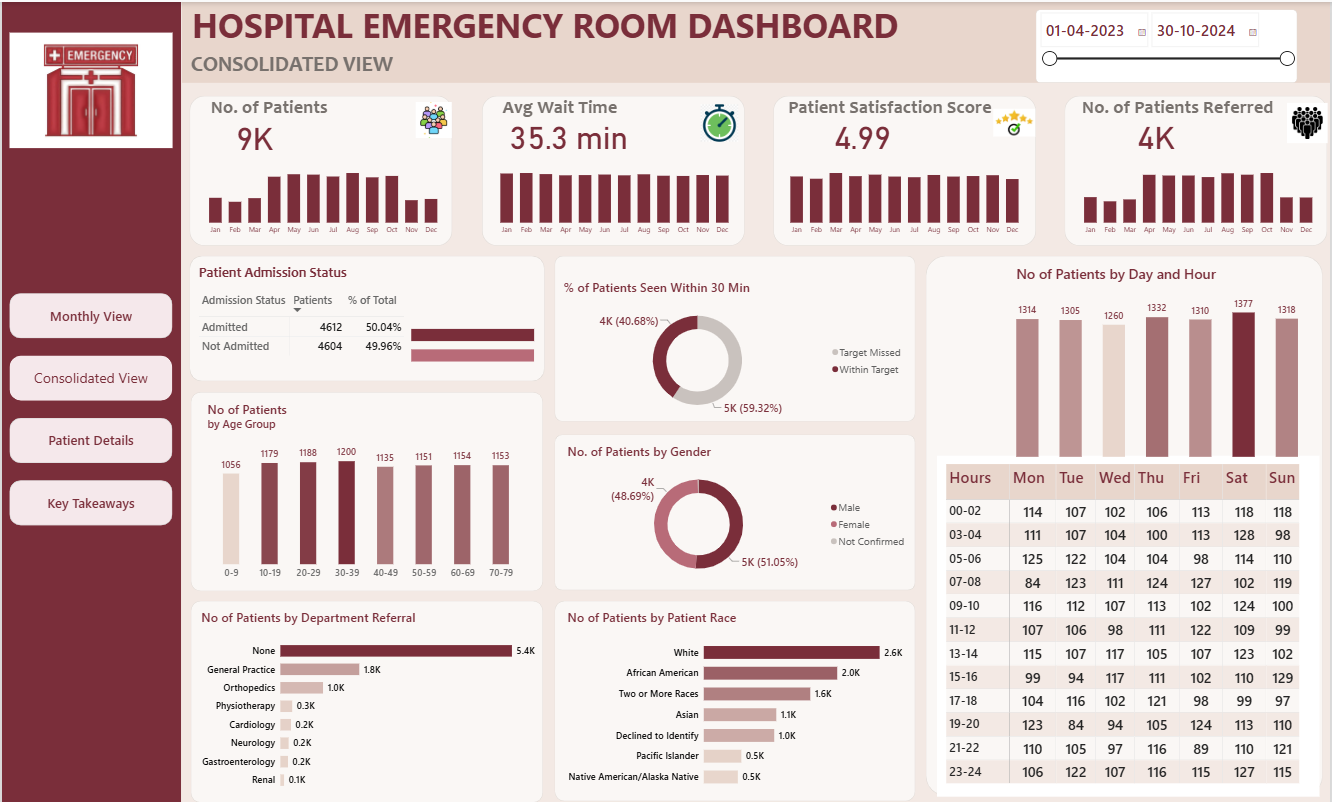

The page's visual inventory and layout, read from the dashboard file:
{"tool":"powerbi","page":{"name":"Consolidated View","canvas":[2300,1400],"ordinal":1},"visuals":[{"type":"shape","box":[0,0,310,1400.5],"z":0},{"type":"shape","box":[310.7,0,1989.8,140],"z":1000},{"type":"textbox","box":[283.6,0,1851.7,108.5],"z":2000},{"type":"textbox","box":[327.9,0,1260,106],"z":3000},{"type":"shape","box":[325.6,163.2,455,260],"z":4000},{"type":"textbox","box":[327.5,85,422.5,55],"z":5000},{"type":"cardVisual","fields":{"Data":["Hospital ER_Data.No of Patients"]},"box":[360.6,198.2,152.5,75],"z":6000},{"type":"slicer","fields":{"Values":["Date Table.Date"]},"box":[1790,12.5,452.5,127.5],"z":7000},{"type":"textbox","box":[360.6,163.2,257.5,67.5],"z":8000},{"type":"columnChart","fields":{"Category":["Date Table.Month Name"],"Y":["Hospital ER_Data.No of Patients"]},"box":[330,272.5,455,150],"z":9000},{"type":"shape","box":[831.7,162.8,455,260],"z":10000},{"type":"shape","box":[1335.8,162.8,455,260],"z":11000},{"type":"shape","box":[1840,162.8,455,260],"z":12000},{"type":"textbox","box":[852.5,162.5,257.5,62.5],"z":13000},{"type":"cardVisual","fields":{"Data":["Hospital ER_Data.Avg Wait Time"]},"box":[852.5,197.5,257.5,75],"z":14000},{"type":"columnChart","fields":{"Category":["Date Table.Month Name"],"Y":["Avg(Hospital ER_Data.Patient Waittime)"]},"box":[832.5,272.5,455,150],"z":15000},{"type":"textbox","box":[310,422.5,522.5,82.5],"z":16000},{"type":"textbox","box":[1362.5,162.5,397.5,62.5],"z":17000},{"type":"cardVisual","fields":{"Data":["Hospital ER_Data.Satisfaction Score"]},"box":[1362.5,197.5,257.5,75],"z":18000},{"type":"columnChart","fields":{"Category":["Date Table.Month Name"],"Y":["Hospital ER_Data.Satisfaction Score"]},"box":[1335,272.5,455,150],"z":19000},{"type":"textbox","box":[1870,162.5,375,62.5],"z":20000},{"type":"cardVisual","fields":{"Data":["Hospital ER_Data.No of Patients Referred"]},"box":[1870,197.5,257.5,75],"z":21000},{"type":"shape","box":[325,440,615,217.5],"z":22000},{"type":"columnChart","fields":{"Category":["Date Table.Month Name"],"Y":["Hospital ER_Data.No of Patients Referred"]},"box":[1845,272.5,455,150],"z":23000},{"type":"pivotTable","title":"Patient Admission Status","fields":{"Rows":["Hospital ER_Data.Admission Status"],"Values":["Hospital ER_Data.No of Patients1","Hospital ER_Data.No of Patients"]},"box":[325,440,612.5,217.5],"z":24000},{"type":"barChart","fields":{"Category":["Hospital ER_Data.Admission Status"],"Y":["Hospital ER_Data.No of Patients"]},"box":[692.5,525,245,132.5],"z":25000},{"type":"shape","box":[327.5,675,610,345],"z":26000},{"type":"clusteredColumnChart","fields":{"Category":["Hospital ER_Data.Age Group"],"Y":["Hospital ER_Data.No of Patients"]},"box":[340,675,582.5,345],"z":27000},{"type":"shape","box":[327.5,1037.5,610,350],"z":28000},{"type":"clusteredBarChart","title":"No of Patients by Department Referral","fields":{"Category":["Hospital ER_Data.Department Referral"],"Y":["Hospital ER_Data.No of Patients"]},"box":[330,1037.5,610,350],"z":29000},{"type":"shape","box":[957.5,440,625,287.5],"z":30000},{"type":"donutChart","title":"% of Patients Seen Within 30 Min","fields":{"Category":["Hospital ER_Data.Waittime Status"],"Y":["Hospital ER_Data.No of Patients"]},"box":[957.5,465,625,270],"z":31000},{"type":"shape","box":[957.5,750,625,270],"z":32000},{"type":"donutChart","title":"No. of Patients by Gender","fields":{"Category":["Hospital ER_Data.Patient Gender"],"Y":["Hospital ER_Data.No of Patients"]},"box":[962.5,750,625,270],"z":33000},{"type":"shape","box":[957.5,1037.5,625,347.5],"z":34000},{"type":"clusteredBarChart","fields":{"Category":["Hospital ER_Data.Patient Race"],"Y":["Hospital ER_Data.No of Patients"]},"box":[962.5,1037.5,612.5,347.5],"z":35000},{"type":"shape","box":[1600,440,687.5,935],"z":36000},{"type":"pivotTable","fields":{"Columns":["Date Table.Day Name"],"Rows":["Hospital ER_Data.Waittime Interval"],"Values":["Hospital ER_Data.No of Patients"]},"box":[1620,785,662.5,590],"z":37000},{"type":"columnChart","title":"No of Patients by Day and Hour","fields":{"Category":["Date Table.Day Name"],"Y":["Hospital ER_Data.No of Patients"]},"box":[1740,440,522.5,365],"z":38000},{"type":"image","box":[717.5,172.5,62.5,62.5],"z":39000},{"type":"image","box":[1210,172.5,65,72.5],"z":40000},{"type":"image","box":[1717.5,175,72.5,67.5],"z":41000},{"type":"image","box":[2225,172.5,70,72.5],"z":42000},{"type":"image","box":[12.5,12.5,282.5,280],"z":43000},{"type":"pageNavigator","box":[12.5,505,282.5,402.5],"z":44000}]}

Visuals, with their boxes in screenshot pixels (x1, y1, x2, y2), scaled from the page's 2300x1400 canvas onto the 1332x802 screenshot:
shape: [x1=0, y1=0, x2=180, y2=801]
shape: [x1=180, y1=0, x2=1331, y2=80]
textbox: [x1=164, y1=0, x2=1237, y2=62]
textbox: [x1=190, y1=0, x2=920, y2=61]
shape: [x1=189, y1=93, x2=452, y2=242]
textbox: [x1=190, y1=49, x2=434, y2=80]
cardVisual - Hospital ER_Data.No of Patients: [x1=209, y1=114, x2=297, y2=157]
slicer - Date Table.Date: [x1=1037, y1=7, x2=1299, y2=80]
textbox: [x1=209, y1=93, x2=358, y2=132]
columnChart - Date Table.Month Name x Hospital ER_Data.No of Patients: [x1=191, y1=156, x2=455, y2=242]
shape: [x1=482, y1=93, x2=745, y2=242]
shape: [x1=774, y1=93, x2=1037, y2=242]
shape: [x1=1066, y1=93, x2=1329, y2=242]
textbox: [x1=494, y1=93, x2=643, y2=129]
cardVisual - Hospital ER_Data.Avg Wait Time: [x1=494, y1=113, x2=643, y2=156]
columnChart - Date Table.Month Name x Avg(Hospital ER_Data.Patient Waittime): [x1=482, y1=156, x2=746, y2=242]
textbox: [x1=180, y1=242, x2=482, y2=289]
textbox: [x1=789, y1=93, x2=1019, y2=129]
cardVisual - Hospital ER_Data.Satisfaction Score: [x1=789, y1=113, x2=938, y2=156]
columnChart - Date Table.Month Name x Hospital ER_Data.Satisfaction Score: [x1=773, y1=156, x2=1037, y2=242]
textbox: [x1=1083, y1=93, x2=1300, y2=129]
cardVisual - Hospital ER_Data.No of Patients Referred: [x1=1083, y1=113, x2=1232, y2=156]
shape: [x1=188, y1=252, x2=544, y2=377]
columnChart - Date Table.Month Name x Hospital ER_Data.No of Patients Referred: [x1=1068, y1=156, x2=1331, y2=242]
"Patient Admission Status" pivotTable: [x1=188, y1=252, x2=543, y2=377]
barChart - Hospital ER_Data.Admission Status x Hospital ER_Data.No of Patients: [x1=401, y1=301, x2=543, y2=377]
shape: [x1=190, y1=387, x2=543, y2=584]
clusteredColumnChart - Hospital ER_Data.Age Group x Hospital ER_Data.No of Patients: [x1=197, y1=387, x2=534, y2=584]
shape: [x1=190, y1=594, x2=543, y2=795]
"No of Patients by Department Referral" clusteredBarChart: [x1=191, y1=594, x2=544, y2=795]
shape: [x1=555, y1=252, x2=916, y2=417]
"% of Patients Seen Within 30 Min" donutChart: [x1=555, y1=266, x2=916, y2=421]
shape: [x1=555, y1=430, x2=916, y2=584]
"No. of Patients by Gender" donutChart: [x1=557, y1=430, x2=919, y2=584]
shape: [x1=555, y1=594, x2=916, y2=793]
clusteredBarChart - Hospital ER_Data.Patient Race x Hospital ER_Data.No of Patients: [x1=557, y1=594, x2=912, y2=793]
shape: [x1=927, y1=252, x2=1325, y2=788]
pivotTable - Date Table.Day Name x Hospital ER_Data.Waittime Interval: [x1=938, y1=450, x2=1322, y2=788]
"No of Patients by Day and Hour" columnChart: [x1=1008, y1=252, x2=1310, y2=461]
image: [x1=416, y1=99, x2=452, y2=135]
image: [x1=701, y1=99, x2=738, y2=140]
image: [x1=995, y1=100, x2=1037, y2=139]
image: [x1=1289, y1=99, x2=1329, y2=140]
image: [x1=7, y1=7, x2=171, y2=168]
pageNavigator: [x1=7, y1=289, x2=171, y2=520]
